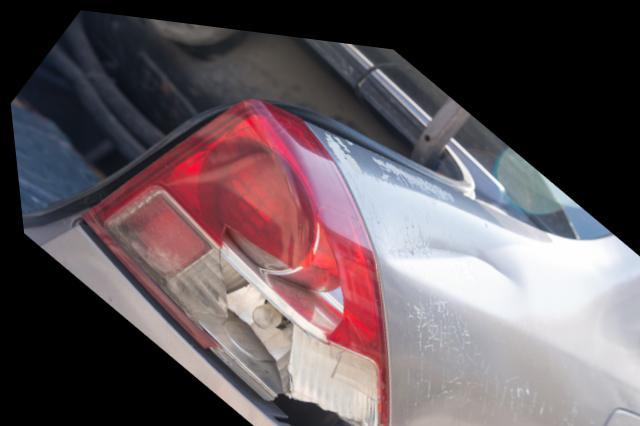dent: (374, 194, 522, 305)
lamp broken: (73, 89, 380, 426)
scratch: (390, 288, 559, 410)
